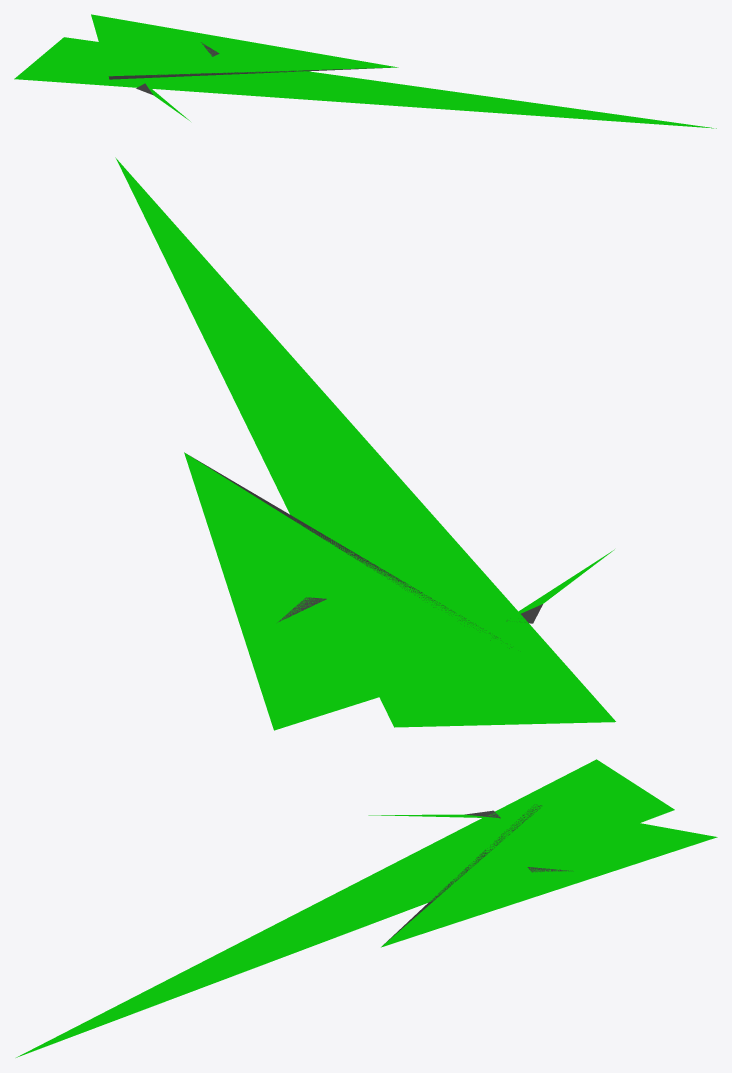
3 renders of one model, top to bottom at view 1: azimuth 30°, elevation 25°; view 2: azimuth 150°, elevation 25°; view 3: azimuth 270°, elevation 25°, orthographic. The views are drawn at different scales.
Size of the model in its own units: 176 by 0 by 175.
